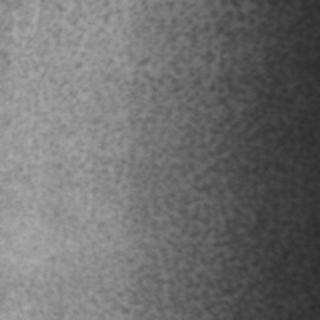pitted_surface: (90, 1, 314, 316)
